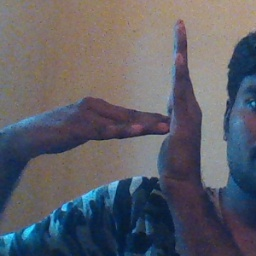Z: (101, 12, 215, 185)
